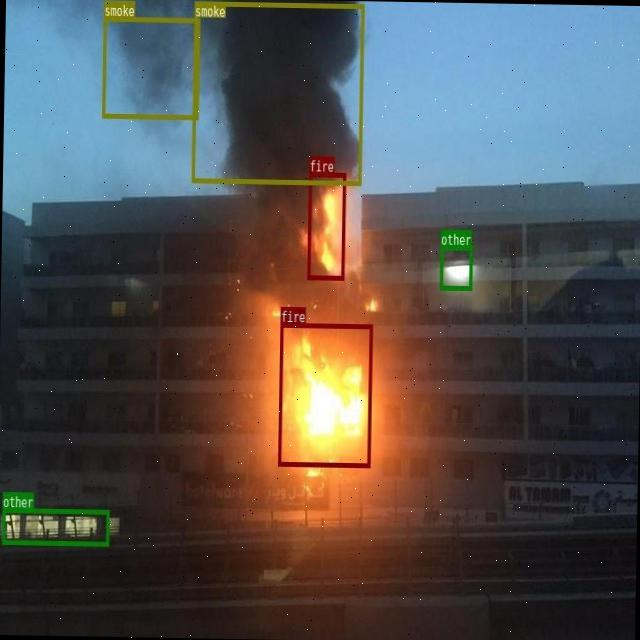fire: (278, 322, 370, 467), (306, 172, 344, 280)
smoke: (190, 0, 363, 184), (102, 16, 200, 118)
